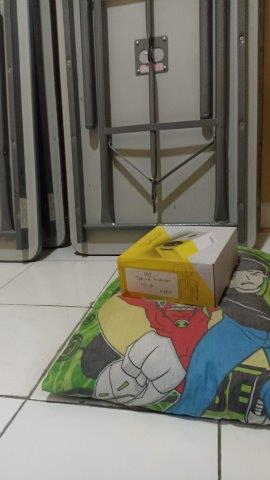kardus: (120, 225, 237, 307)
